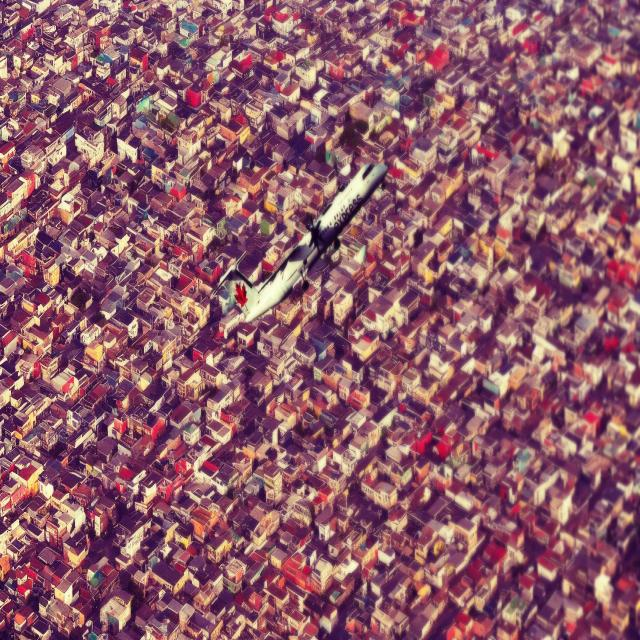airplane: (215, 160, 389, 338)
